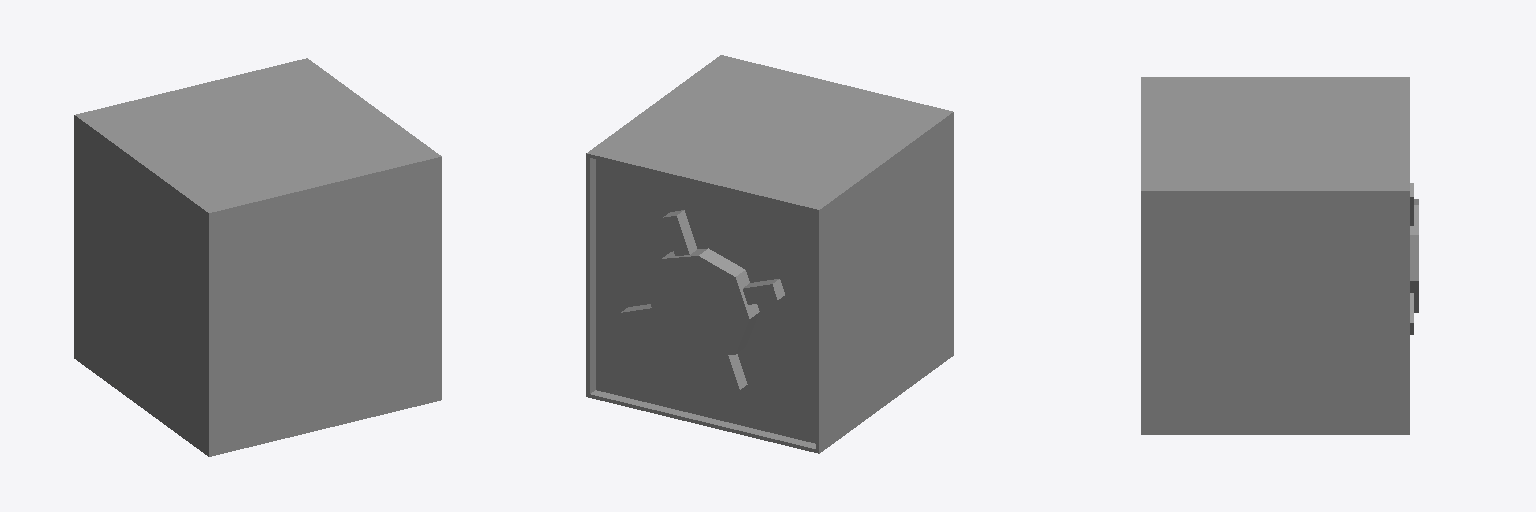
Rendered from locker.obj.
3 renders of one model, left to right at view 1: azimuth 30°, elevation 25°; view 2: azimuth 150°, elevation 25°; view 3: azimuth 270°, elevation 25°, orthographic.
Visible parts, largest first — view 1: Cube.001; view 2: Cube.001; view 3: Cube.001.
Boxes of the visible parts, box(x1,y1,x2,y2) form: Cube.001: box(74, 58, 441, 456); Cube.001: box(586, 55, 953, 453); Cube.001: box(1141, 77, 1418, 434).
Bounding box in the file's own units: 0.9895 × 0.9895 × 1.02.